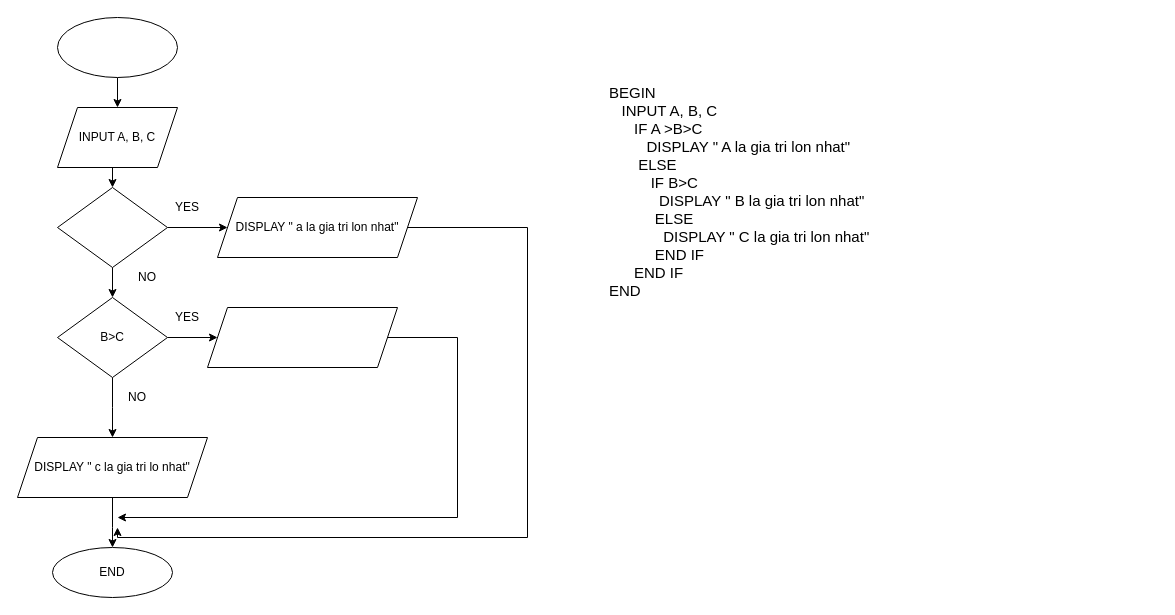
Some shapes in this 1175 by 615 pixel diagram are drawn without their labels. The shapes that lost their labels are listed below. From the top down, each one's centre as x and y in pixels, then its label:
(x=117, y=47): BEGIN
(x=112, y=227): A>B>C
(x=302, y=337): DISPLAY " b la gia tri lon nhat"
